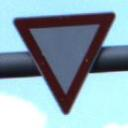preferencia: (11, 11, 117, 117)
